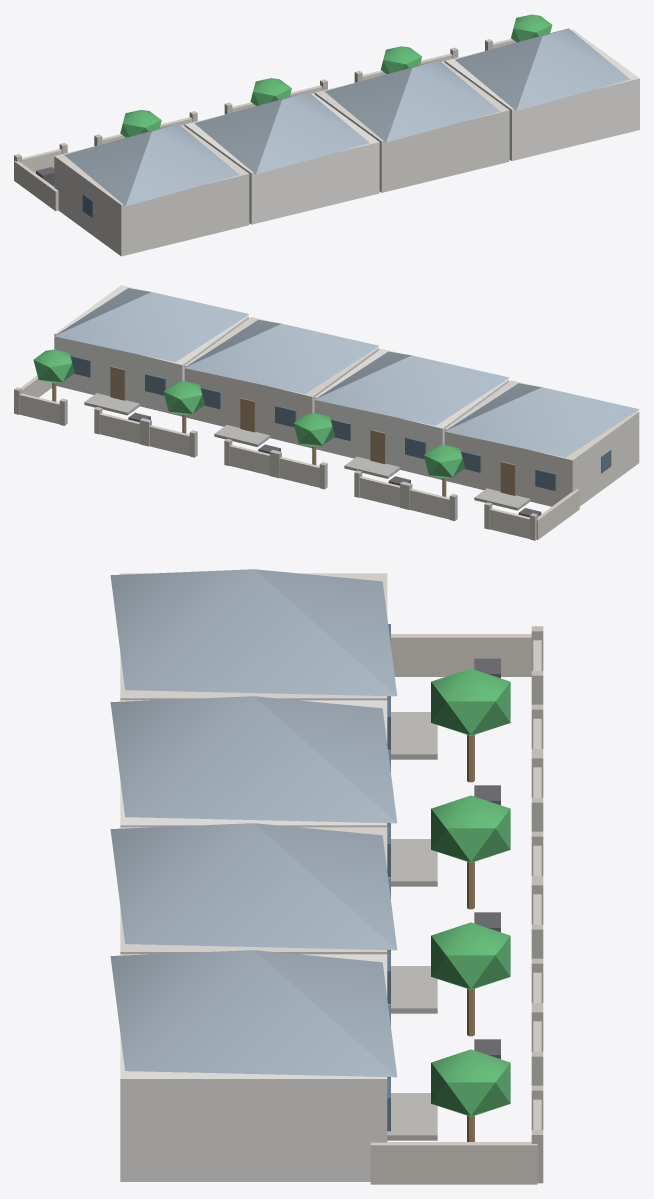
The model's file is estate_bungalow_3.glb.
The picture shows the model from 3 angles, top to bottom: view 1: azimuth 30°, elevation 25°; view 2: azimuth 150°, elevation 25°; view 3: azimuth 270°, elevation 25°; orthographic projection. The views are drawn at different scales.
Parts seen in each view (by area): view 1: BLD_estate_bungalow_3; view 2: BLD_estate_bungalow_3; view 3: BLD_estate_bungalow_3.
Part boxes in pixels (x1,y1,x2,y2): BLD_estate_bungalow_3: (14, 14, 639, 256); BLD_estate_bungalow_3: (14, 285, 639, 540); BLD_estate_bungalow_3: (110, 569, 543, 1184).
Size of the model in its own units: 36.25 by 5.6 by 12.97.
